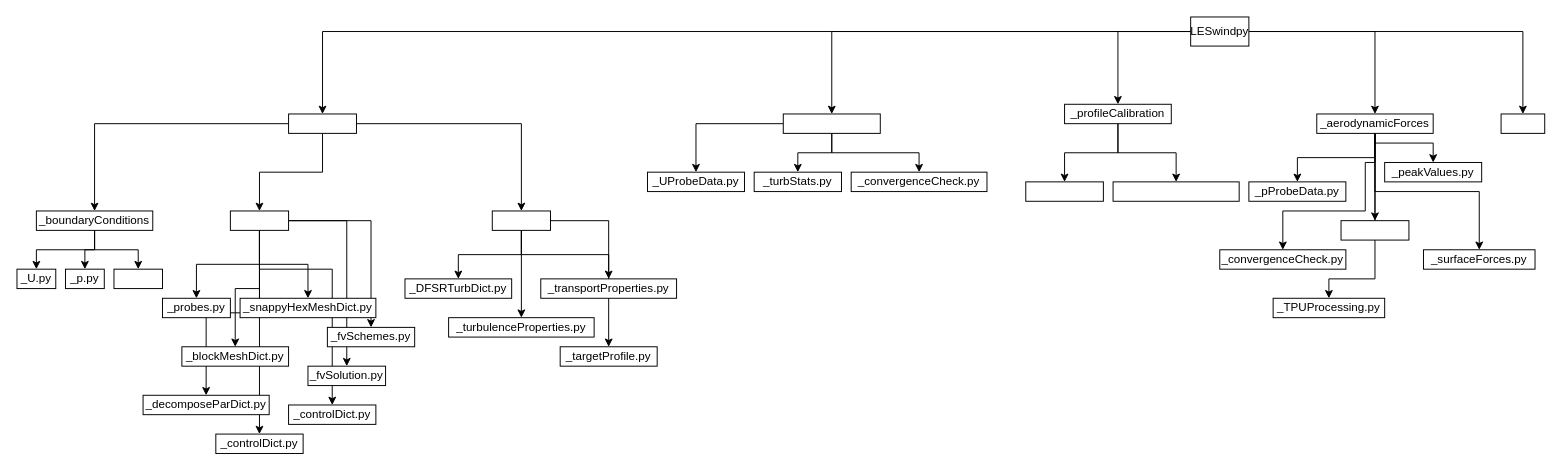
Some shapes in this 1562 by 470 pixel diagram are drawn without their labels. Each missing label, with the box of its shape:
_calcErrors.py: (1025, 181, 1103, 201)
_caseFiles: (288, 113, 356, 133)
_constant: (491, 210, 550, 230)
_newTargetProfiles.py: (1112, 181, 1239, 201)
_nut.py: (113, 268, 162, 289)
_plot: (1500, 113, 1545, 133)
_profileAnalysis: (782, 113, 880, 133)
_pStats.py: (1340, 220, 1409, 240)
_system: (229, 210, 289, 230)
